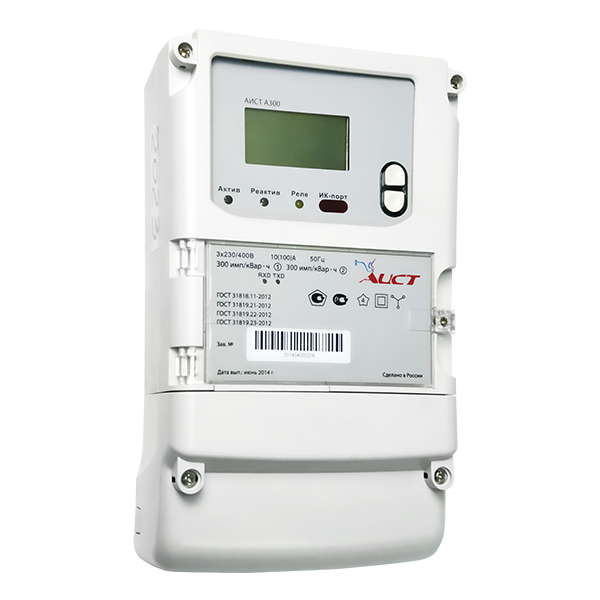counter: (149, 22, 466, 572)
counter_screen: (240, 105, 350, 174)
